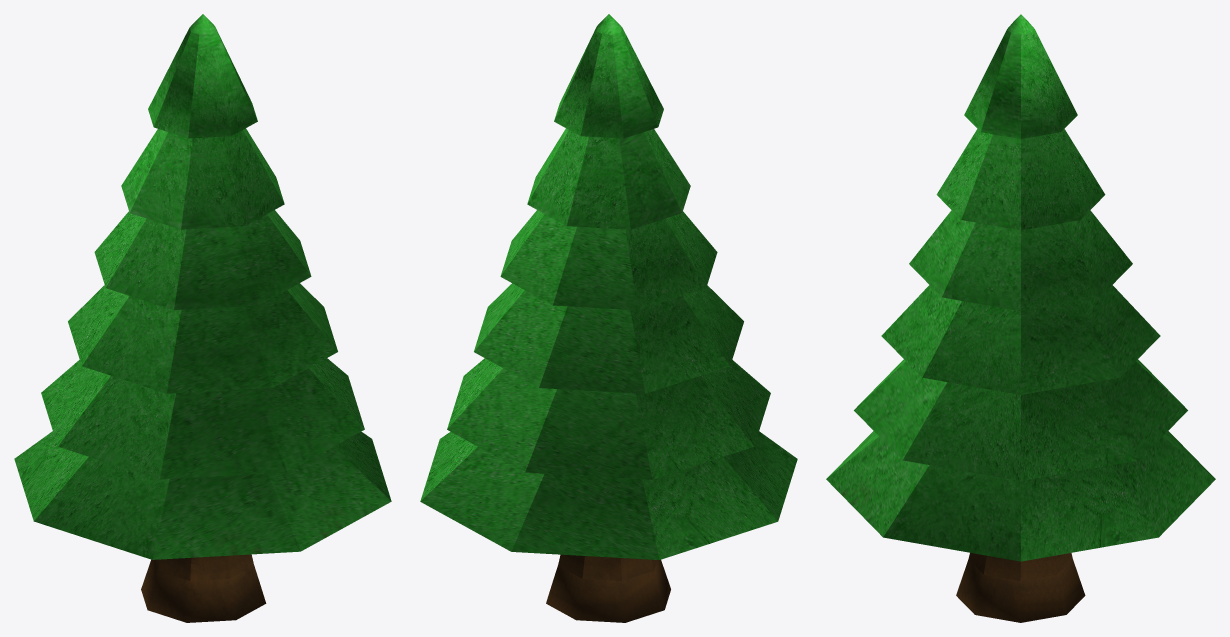
File: abeto.obj
3 renders of one model, left to right at view 1: azimuth 30°, elevation 25°; view 2: azimuth 150°, elevation 25°; view 3: azimuth 270°, elevation 25°, orthographic.
Parts seen in each view (by area): view 1: Cylinder001; view 2: Cylinder001; view 3: Cylinder001.
Boxes of the visible parts, x1,y1,x2,y2 form: Cylinder001: (14,14,391,622); Cylinder001: (420,14,797,622); Cylinder001: (826,14,1215,622).
Size of the model in its own units: 1.99 by 3.28 by 1.99.
1 material, 1 textured.
